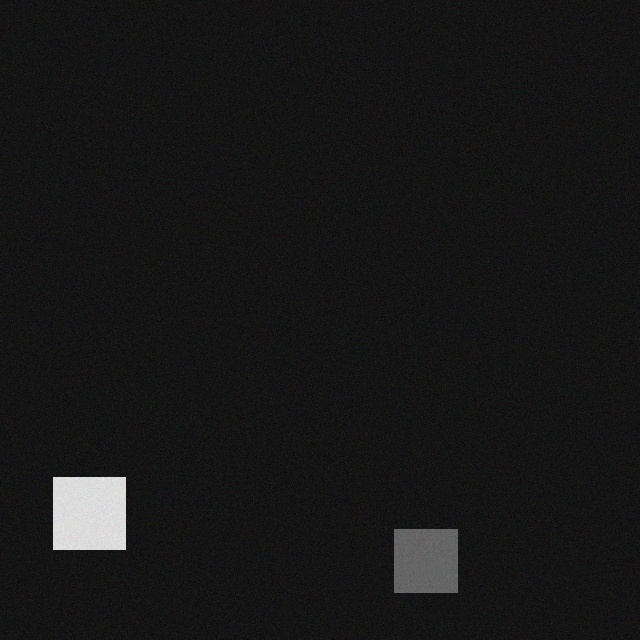square: (65, 484, 137, 556), (406, 536, 469, 599)
